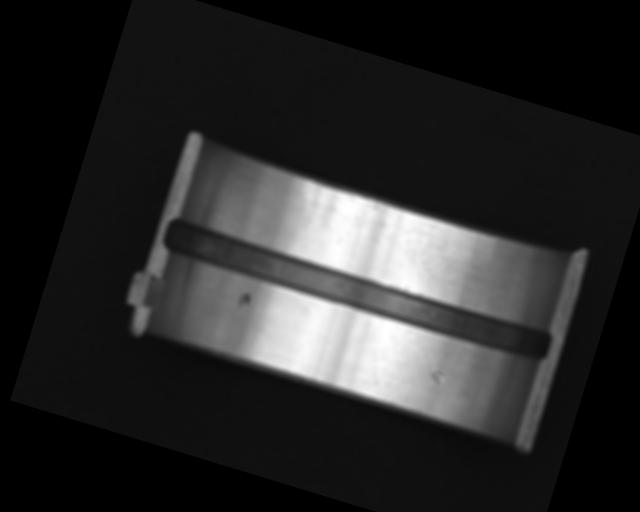blot: (236, 289, 252, 311)
bruise: (425, 366, 447, 388)
gap: (160, 215, 555, 369)
